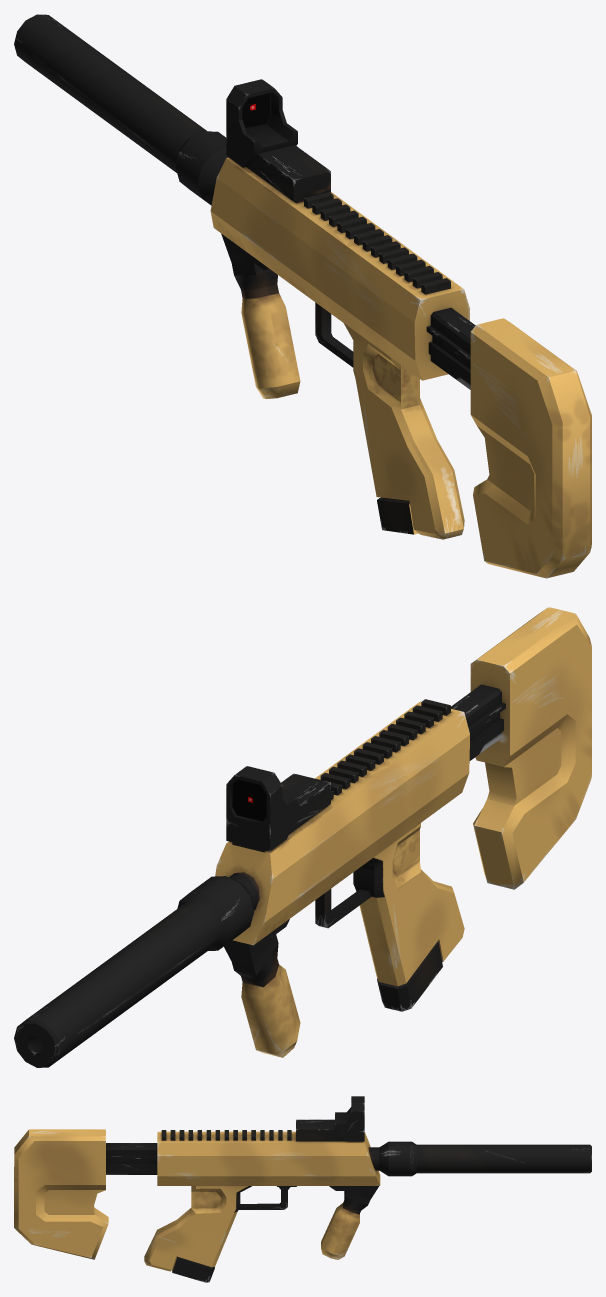
Rendered from SMG.glb.
The picture shows the model from 3 angles, top to bottom: view 1: azimuth 30°, elevation 25°; view 2: azimuth 150°, elevation 25°; view 3: azimuth 270°, elevation 25°; orthographic projection. The views are drawn at different scales.
Parts seen in each view (by area): view 1: SMG; view 2: SMG; view 3: SMG.
Boxes of the visible parts, left/top/right/bottom form: SMG: left=14, top=14, right=591, bottom=578; SMG: left=14, top=607, right=591, bottom=1067; SMG: left=14, top=1096, right=591, bottom=1282.
Bounding box in the file's own units: 0.032 × 0.1828 × 0.5309.
Materials: 1 (1 with a texture image).
